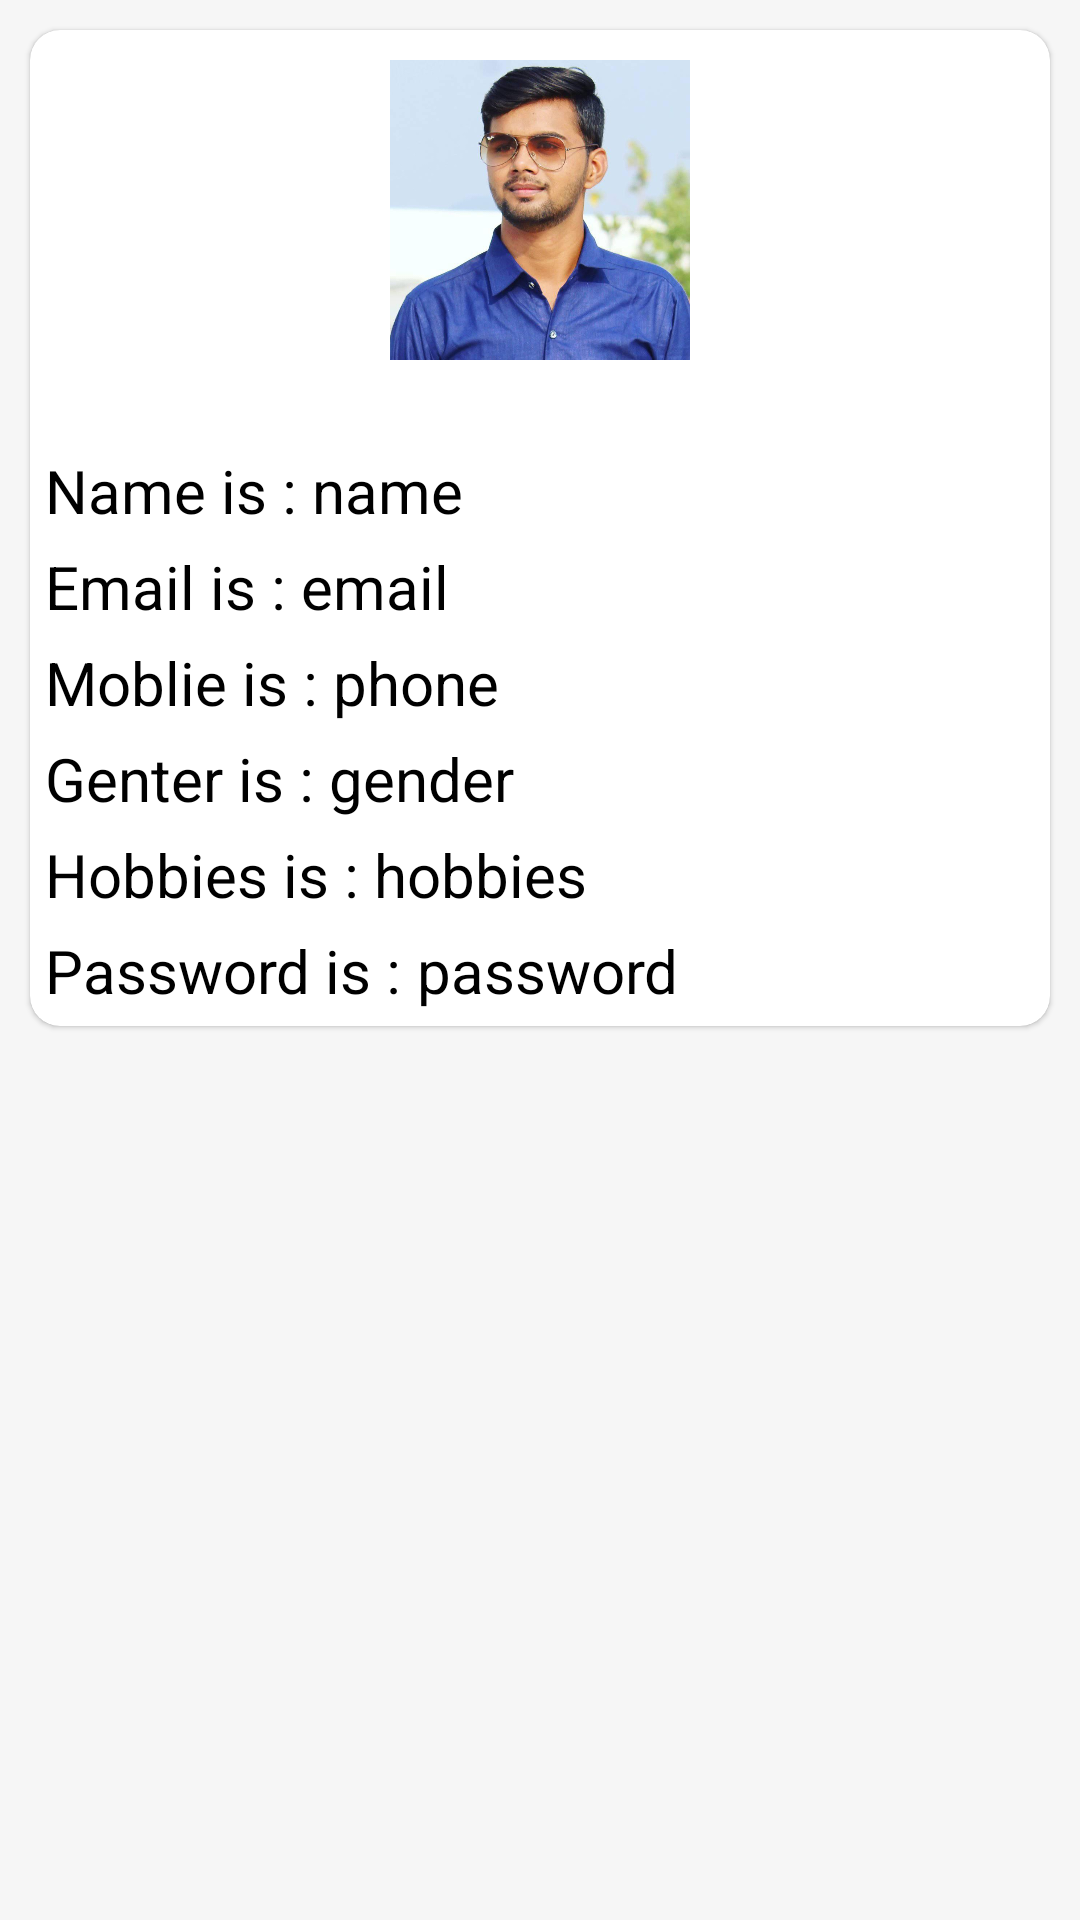

Screen size 1080*1920. Icon name, then its box in pixels as (x1, y1, x2, y2):
profile: (390, 60, 690, 360)
